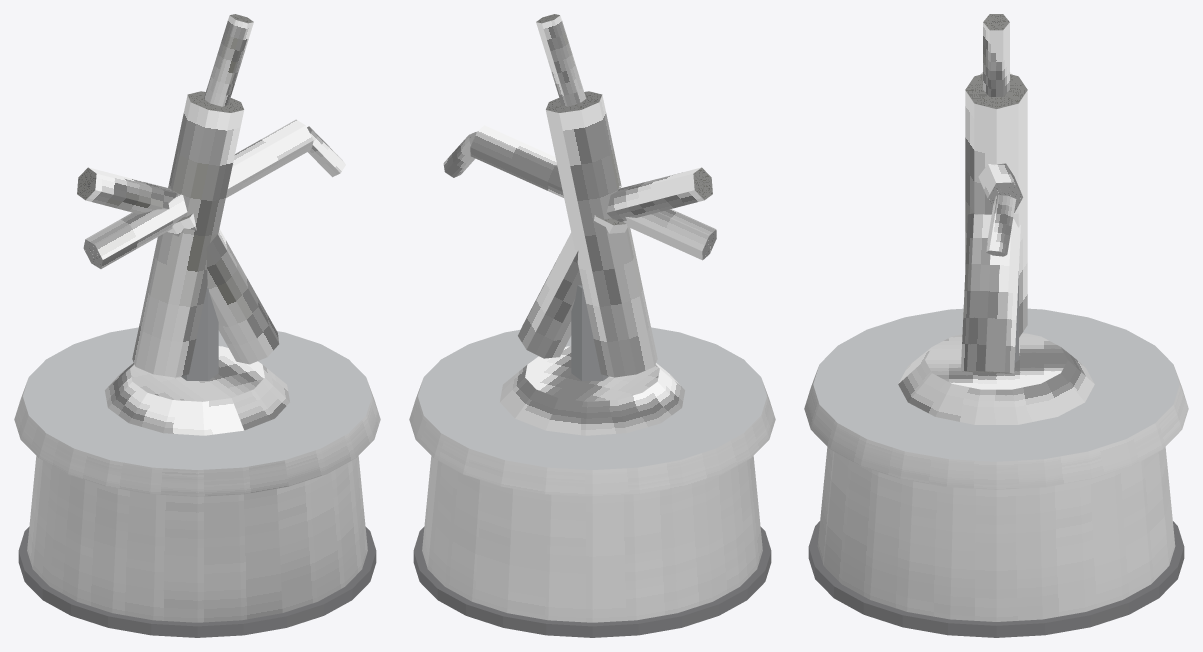
Rendered from Building_SculptureSmall.glb.
3 views of the same model, side by side, from view 1: azimuth 30°, elevation 25°; view 2: azimuth 150°, elevation 25°; view 3: azimuth 270°, elevation 25° (orthographic). The views are drawn at different scales.
Parts seen in each view (by area): view 1: SculptureSmall; view 2: SculptureSmall; view 3: SculptureSmall.
Part boxes in pixels (x1,y1,x2,y2): SculptureSmall: (14,14,380,637); SculptureSmall: (409,14,775,637); SculptureSmall: (804,14,1188,637).
Size of the model in its own units: 0.86 by 1.39 by 0.86.
Materials: 1 (1 with a texture image).
